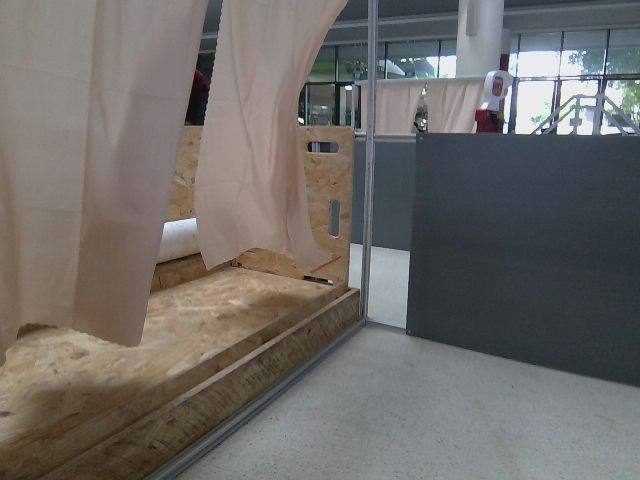curtain: (0, 0, 371, 346)
